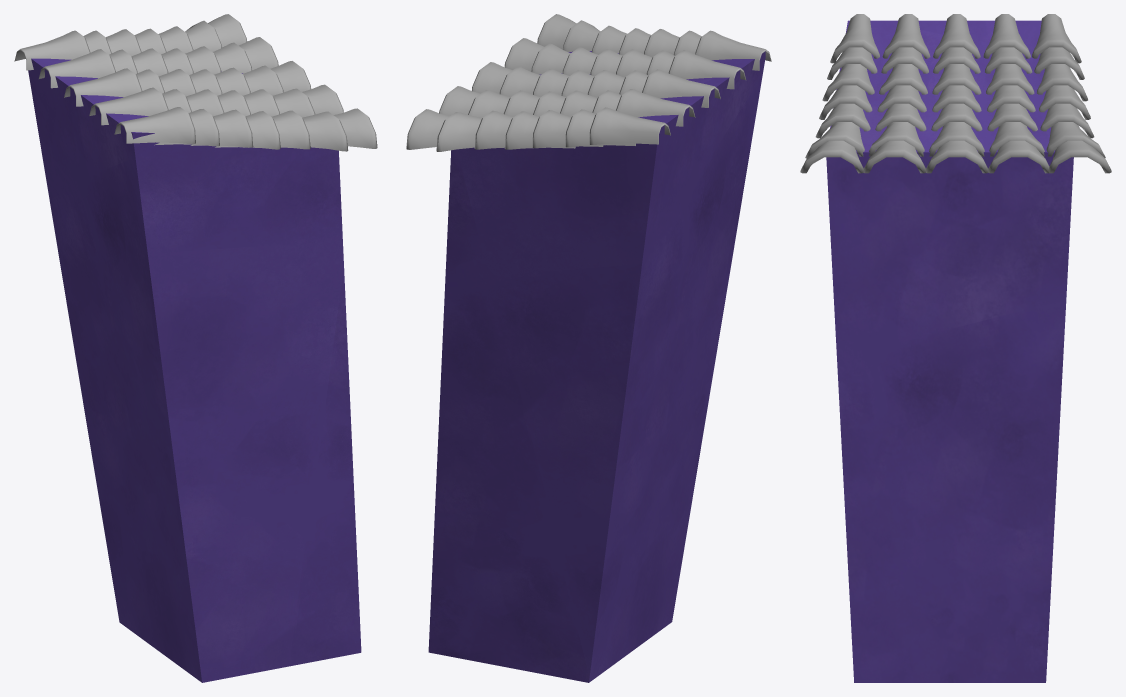
File: bat1.fbx
The picture shows the model from 3 angles, left to right: view 1: azimuth 30°, elevation 25°; view 2: azimuth 150°, elevation 25°; view 3: azimuth 270°, elevation 25°; orthographic projection. The views are drawn at different scales.
Visible parts, largest first — view 1: group31; view 2: group31; view 3: group31.
Boxes of the visible parts, x1,y1,x2,y2 form: group31: [14, 14, 377, 682]; group31: [406, 14, 771, 682]; group31: [800, 14, 1111, 682].
Bounding box in the file's own units: 8.58 × 20.21 × 10.19.
